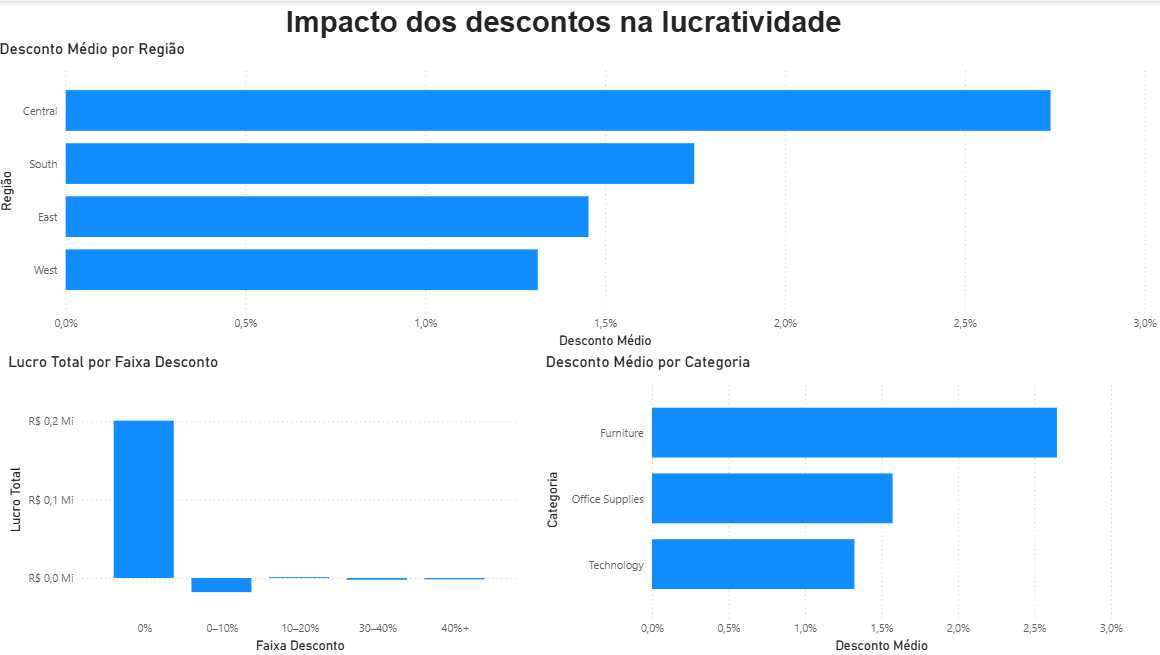

The dashboard page shown, as its layout file describes it:
{"tool":"powerbi","page":{"name":"Descontos","canvas":[1280,720],"ordinal":3},"visuals":[{"type":"clusteredBarChart","fields":{"Category":["Sample - Superstore.Region"],"Y":["Sample - Superstore.Desconto Médio"]},"box":[0,42.5,1280.3,343.1],"z":0},{"type":"clusteredColumnChart","fields":{"Category":["Sample - Superstore.Faixa Desconto"],"Y":["Sample - Superstore.Lucro Total"]},"box":[9.6,385.6,569.5,334.8],"z":2000},{"type":"clusteredBarChart","fields":{"Y":["Sample - Superstore.Desconto Médio"],"Category":["Sample - Superstore.Category"]},"box":[599.7,385.6,643.6,334.8],"z":3000},{"type":"textbox","box":[314.2,0,671,54.9],"z":3001}]}

Visuals, with their boxes in screenshot pixels (x1, y1, x2, y2), scaled from the page's 1280x720 canvas onto the 1160x655 screenshot:
clusteredBarChart - Sample - Superstore.Region x Sample - Superstore.Desconto Médio: locate(0, 39, 1159, 351)
clusteredColumnChart - Sample - Superstore.Faixa Desconto x Sample - Superstore.Lucro Total: locate(9, 351, 525, 654)
clusteredBarChart - Sample - Superstore.Desconto Médio x Sample - Superstore.Category: locate(543, 351, 1127, 654)
textbox: locate(285, 0, 893, 50)
